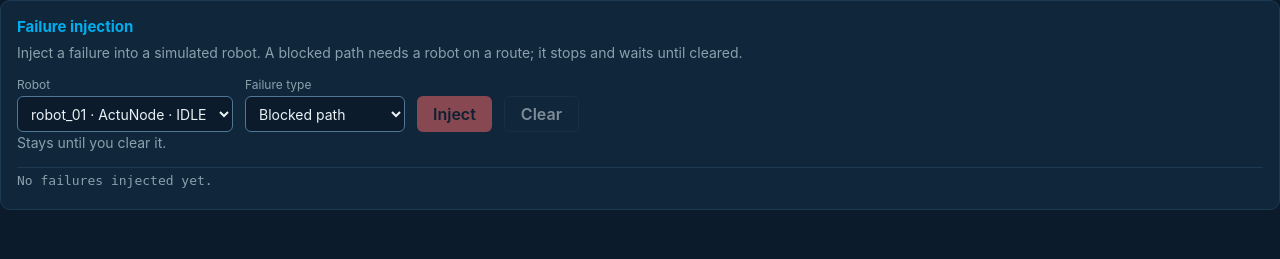
Test: FailurePanel › shows the server detail on a 422
Select "Low battery" in the dropdown labelled "Failure type" at x=325, y=114, box [245, 96, 405, 132]
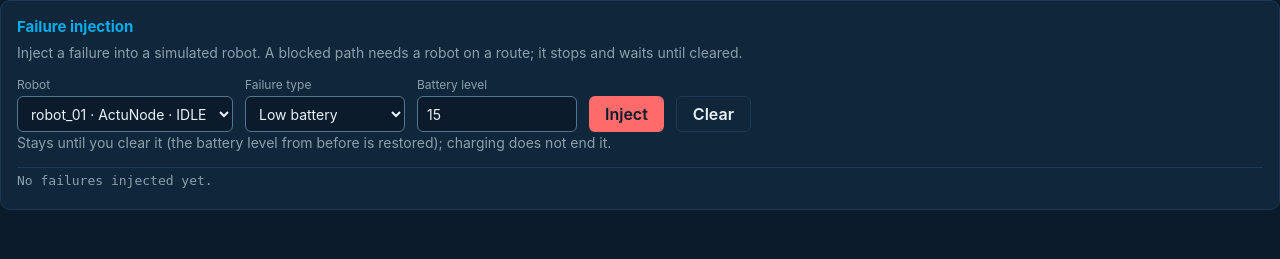
Replace the text in the number field labelled "Battery level" with "50" at x=497, y=114, box [417, 96, 577, 132]
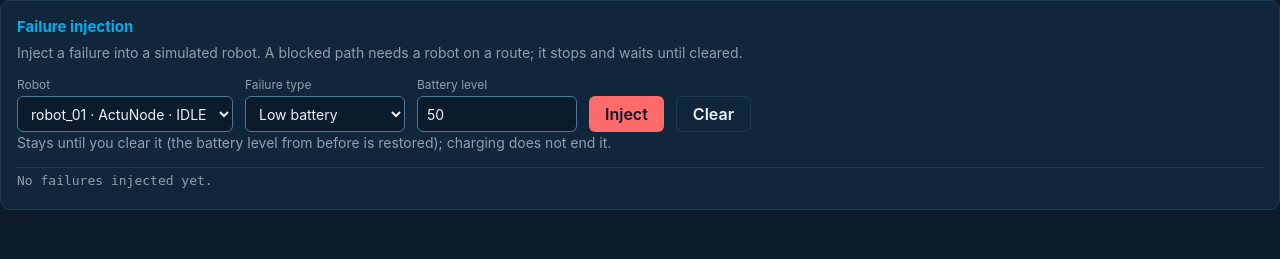
Click the button "Inject" at x=626, y=114, box [589, 96, 664, 132]
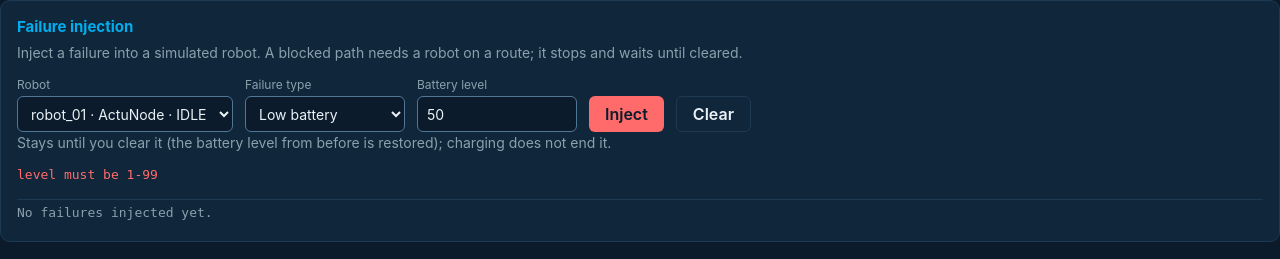
Now the text "level must be 1-99" is shown, box [17, 167, 158, 182]
